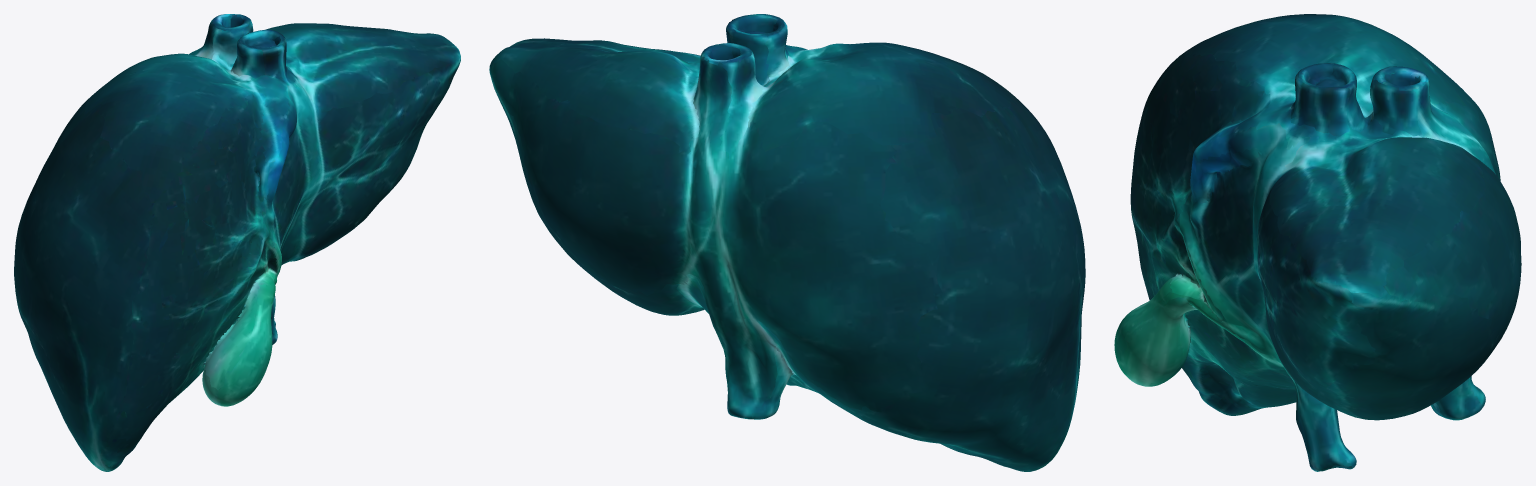
File: liver.glb
The picture shows the model from 3 angles, left to right: view 1: azimuth 30°, elevation 25°; view 2: azimuth 150°, elevation 25°; view 3: azimuth 270°, elevation 25°; orthographic projection. The views are drawn at different scales.
Parts seen in each view (by area): view 1: textured_mesh.obj; view 2: textured_mesh.obj; view 3: textured_mesh.obj.
Part boxes in pixels (x1,y1,x2,y2): textured_mesh.obj: (14,14,460,471); textured_mesh.obj: (489,14,1085,471); textured_mesh.obj: (1114,14,1521,471).
Size of the model in its own units: 1.99 by 1.51 by 1.21.
Materials: 1 (1 with a texture image).
